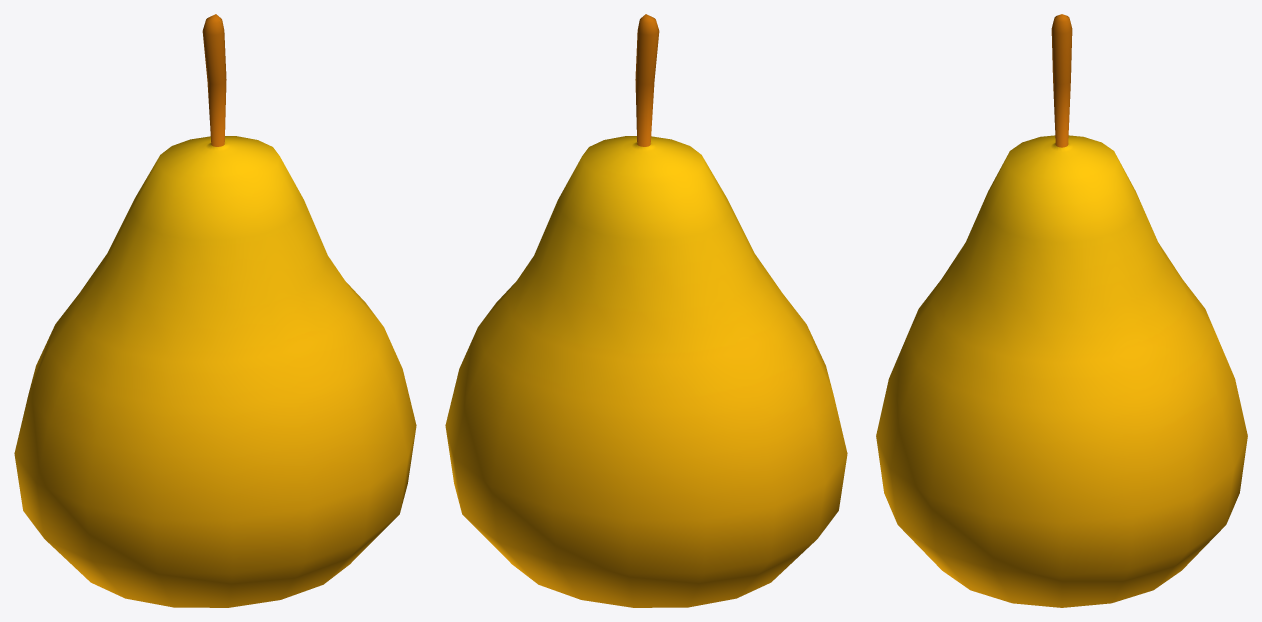
The model's file is Pear.fbx.
The picture shows the model from 3 angles, left to right: view 1: azimuth 30°, elevation 25°; view 2: azimuth 150°, elevation 25°; view 3: azimuth 270°, elevation 25°; orthographic projection.
Parts seen in each view (by area): view 1: Pear; view 2: Pear; view 3: Pear.
Part boxes in pixels (box(x1,y1,x2,y2)): Pear: box(14, 14, 416, 607); Pear: box(445, 14, 847, 607); Pear: box(876, 14, 1247, 607).
Bounding box in the file's own units: 228 × 345 × 207.
1 material, 1 textured.
